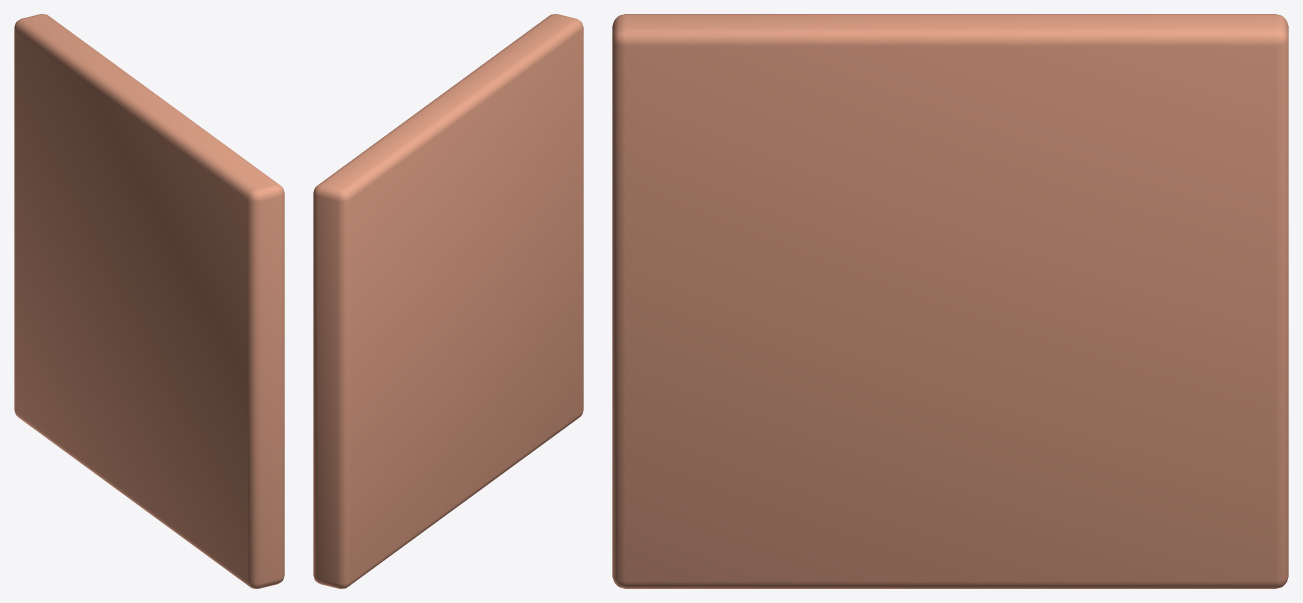
Rendered from block_straight_mid.fbx.
3 renders of one model, left to right at view 1: azimuth 30°, elevation 25°; view 2: azimuth 150°, elevation 25°; view 3: azimuth 270°, elevation 25°, orthographic. The views are drawn at different scales.
Parts seen in each view (by area): view 1: block_straight_mid; view 2: block_straight_mid; view 3: block_straight_mid.
Boxes of the visible parts, x1,y1,x2,y2 form: block_straight_mid: (14, 14, 284, 588); block_straight_mid: (313, 14, 583, 588); block_straight_mid: (612, 14, 1288, 588).
Bounding box in the file's own units: 65.76 × 700 × 768.
